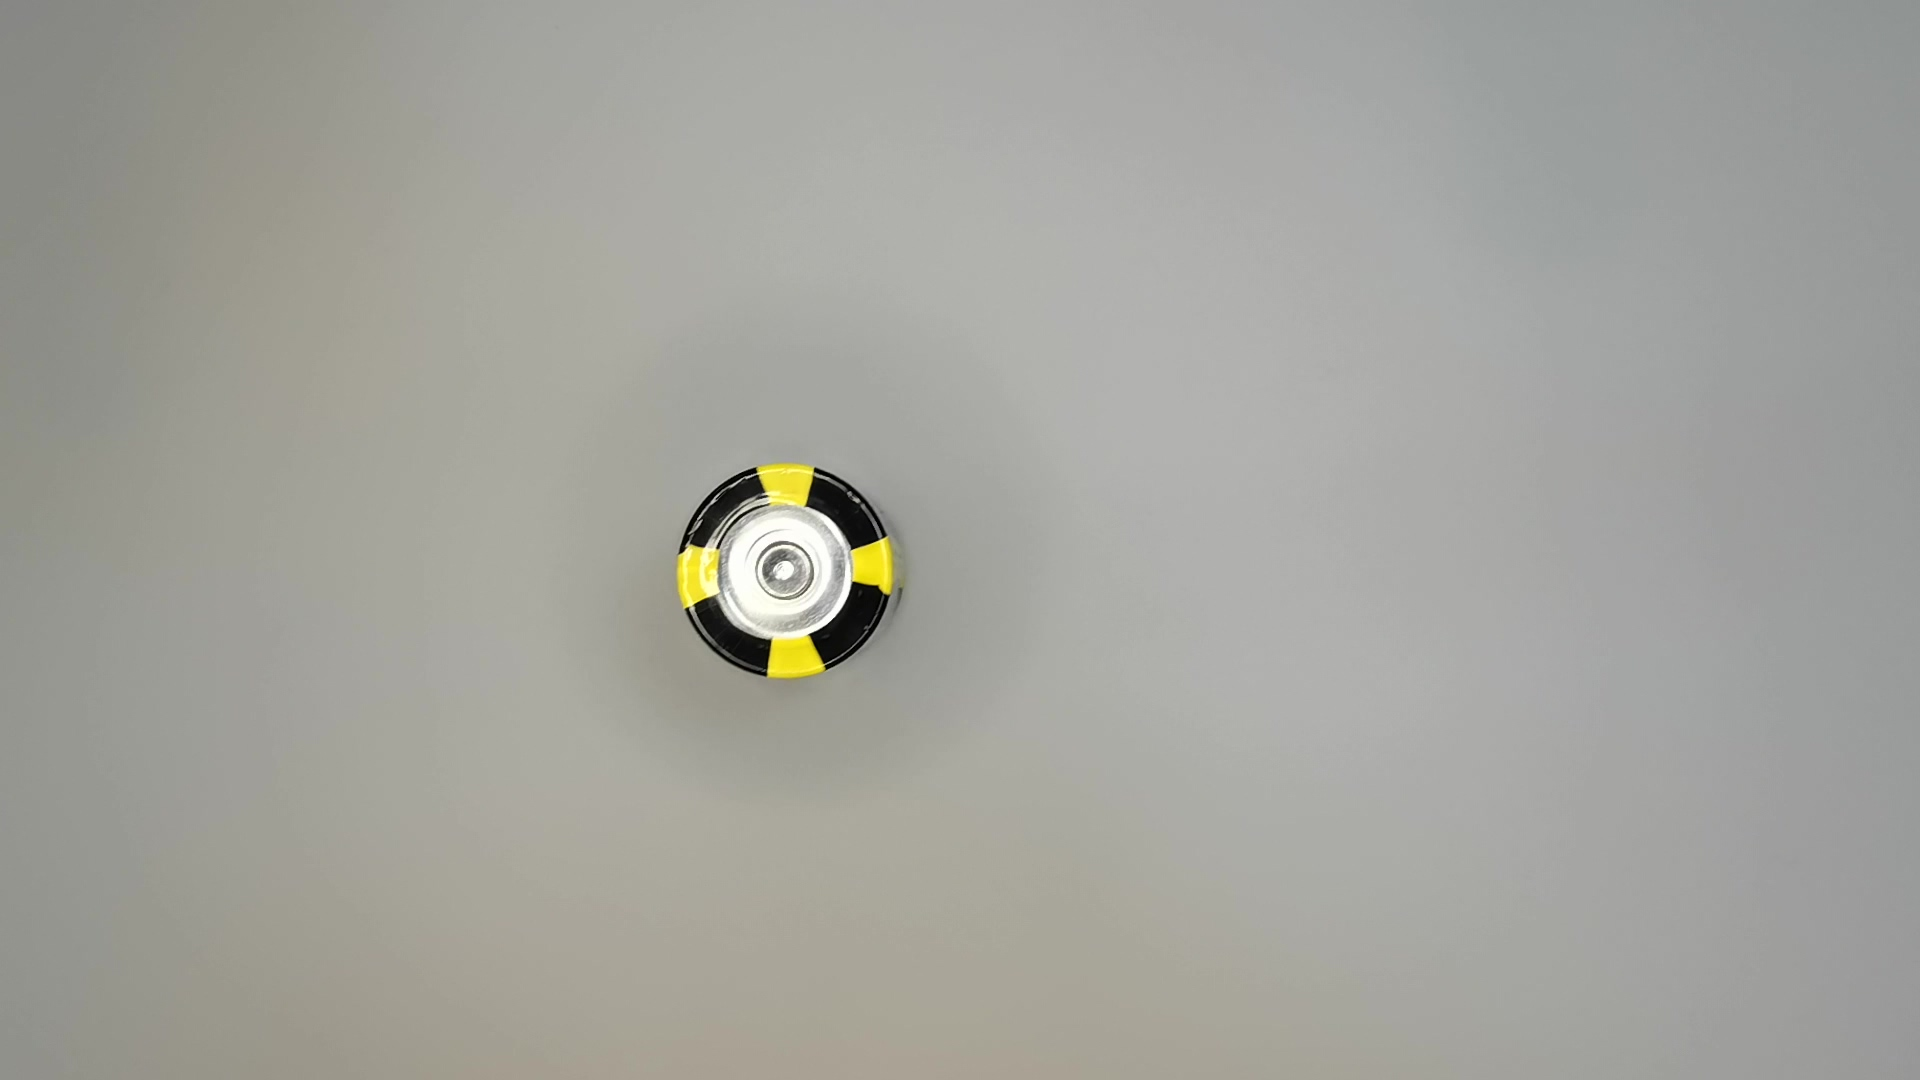battery: (669, 458, 915, 687)
